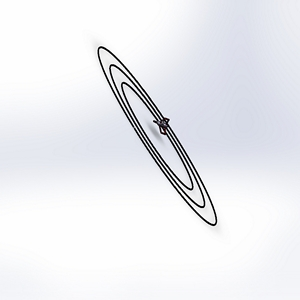circle: (75, 29, 230, 238)
submarine: (150, 110, 175, 143)
